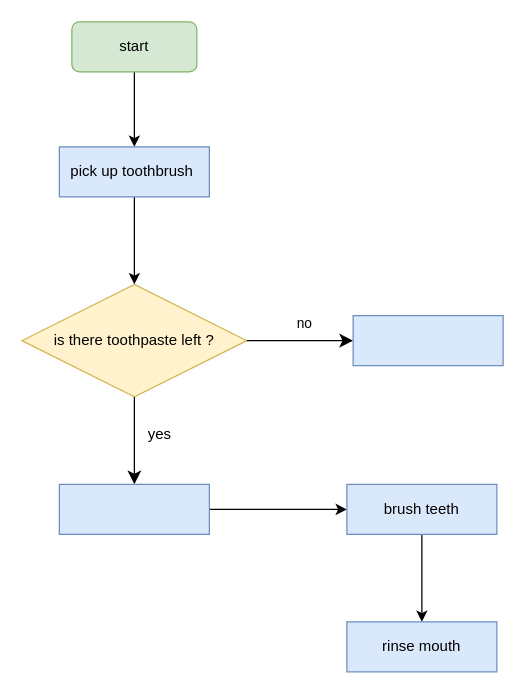
Image size: 525x694. Some labels were removed from this diagram. Here are the shapes that lost their labels. From the top down, the centre of each, then its label:
At point 427,340: "get a new toothbrush".
At point 133,508: "Apply toothbrush".
